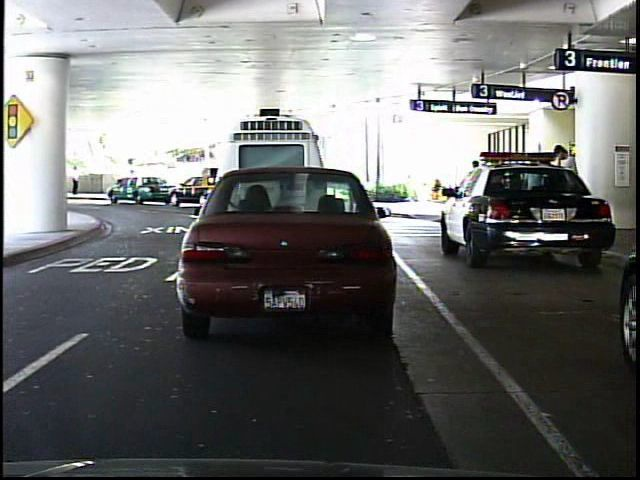person: (550, 138, 583, 240), (124, 167, 142, 199), (72, 163, 84, 198)
